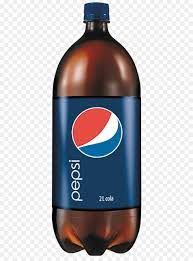bottle: (54, 1, 142, 258)
pepsi: (72, 107, 124, 159), (68, 159, 86, 203)
plastic: (54, 1, 143, 256)
